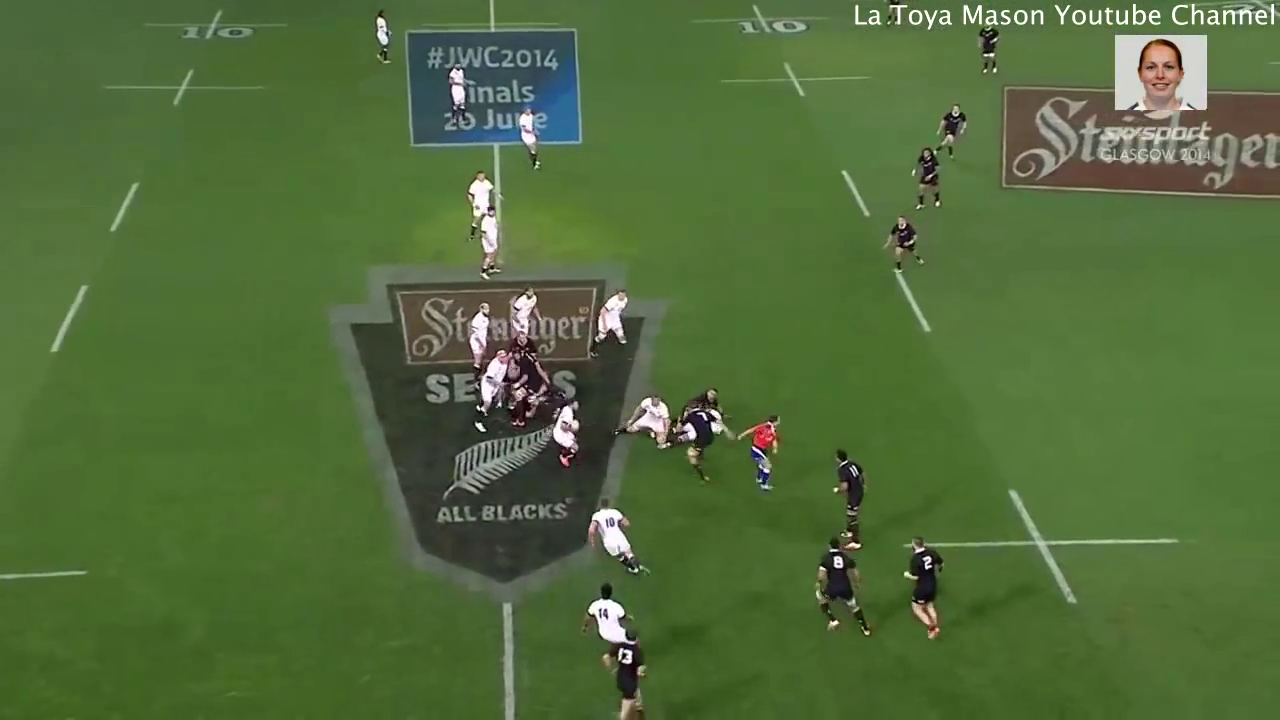10_metre: (897, 479, 1180, 613), (102, 67, 268, 112), (137, 8, 286, 56), (720, 61, 878, 102), (685, 4, 837, 43)
player: (805, 538, 872, 641), (578, 500, 660, 581), (891, 528, 949, 641), (825, 442, 877, 547), (600, 624, 658, 717), (739, 412, 788, 491), (606, 392, 668, 449), (677, 404, 721, 481), (904, 140, 944, 210), (545, 403, 587, 468), (590, 283, 628, 352), (461, 302, 497, 373), (473, 345, 503, 426), (884, 210, 925, 269), (577, 585, 630, 630), (513, 102, 544, 176), (367, 8, 394, 73), (477, 203, 501, 276), (936, 101, 965, 160), (445, 64, 472, 123), (974, 24, 1000, 79), (509, 287, 539, 329), (466, 170, 494, 212)
ruck: (622, 390, 733, 442), (474, 358, 558, 422)
